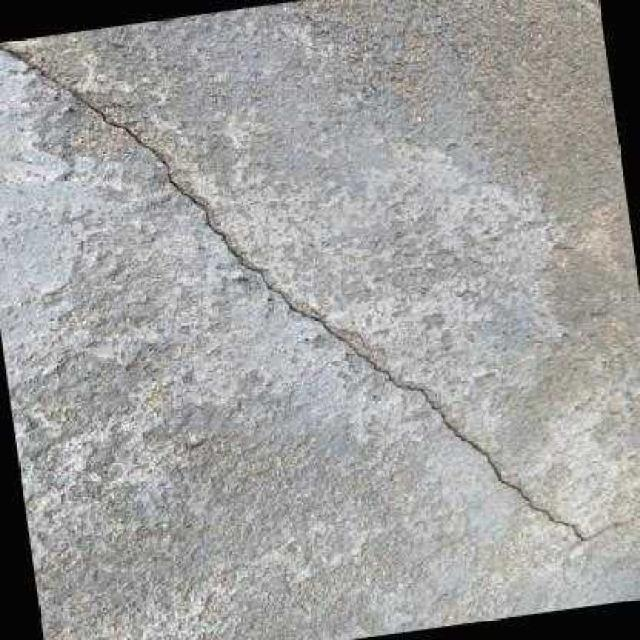D00: (0, 43, 583, 538)
